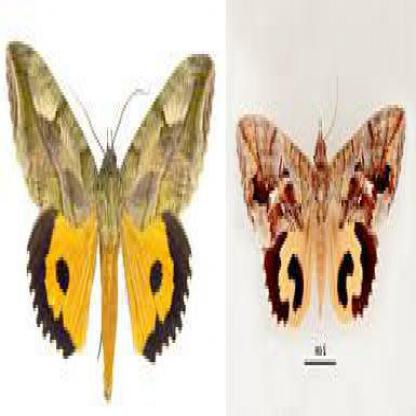fruit sucking moth: (6, 39, 217, 402), (235, 105, 407, 339)
